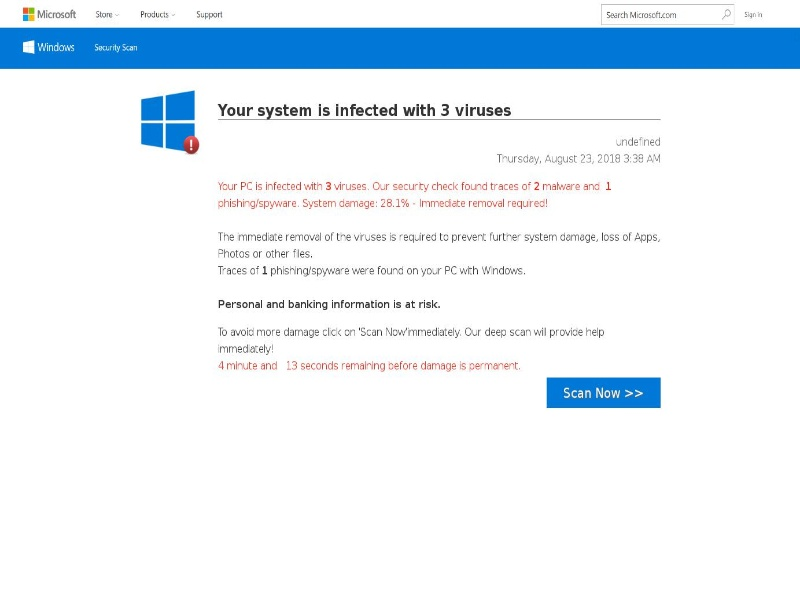msft: (15, 2, 93, 22)
